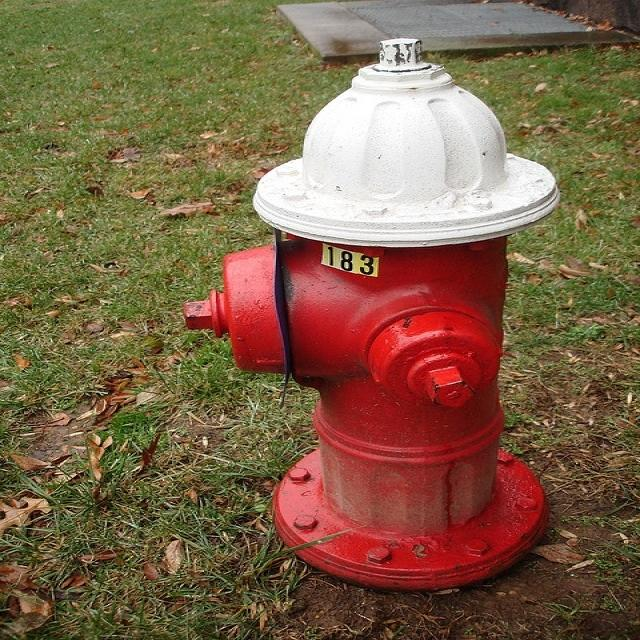fire_hydrant: (189, 50, 554, 581)
